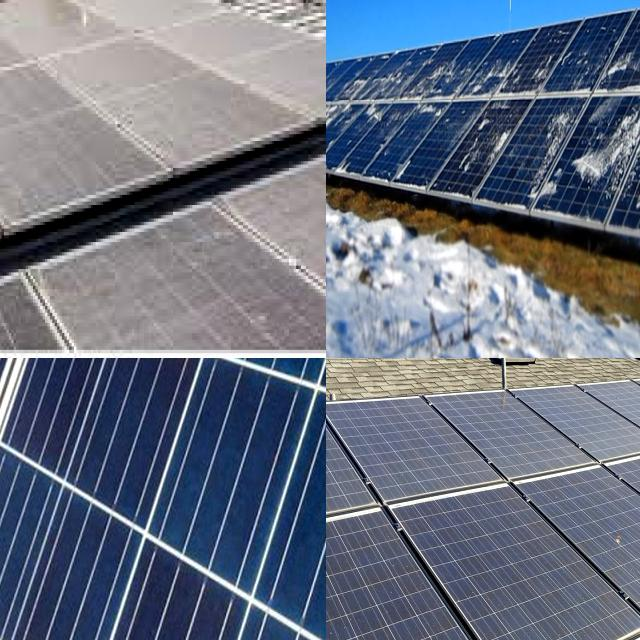crack: (0, 358, 326, 640)
dust: (122, 30, 264, 134), (0, 122, 80, 244), (0, 92, 96, 190), (468, 506, 534, 626), (326, 552, 402, 640)
panel: (576, 91, 640, 209), (342, 62, 458, 117), (334, 152, 446, 199), (484, 47, 561, 104), (462, 116, 516, 192), (532, 115, 572, 214), (574, 26, 613, 111), (326, 87, 353, 164), (457, 41, 480, 108), (608, 42, 640, 88)
